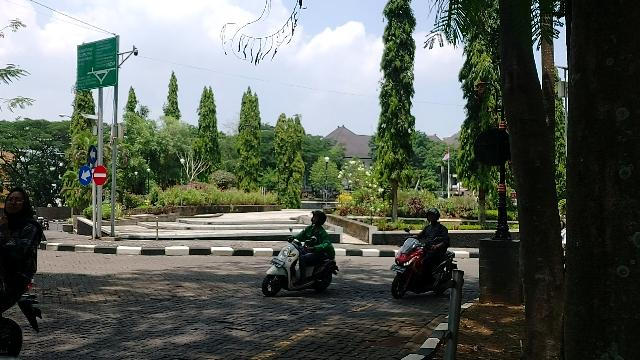helm: (310, 211, 328, 228), (425, 209, 442, 224)
motor: (263, 228, 341, 299), (388, 228, 458, 300)
